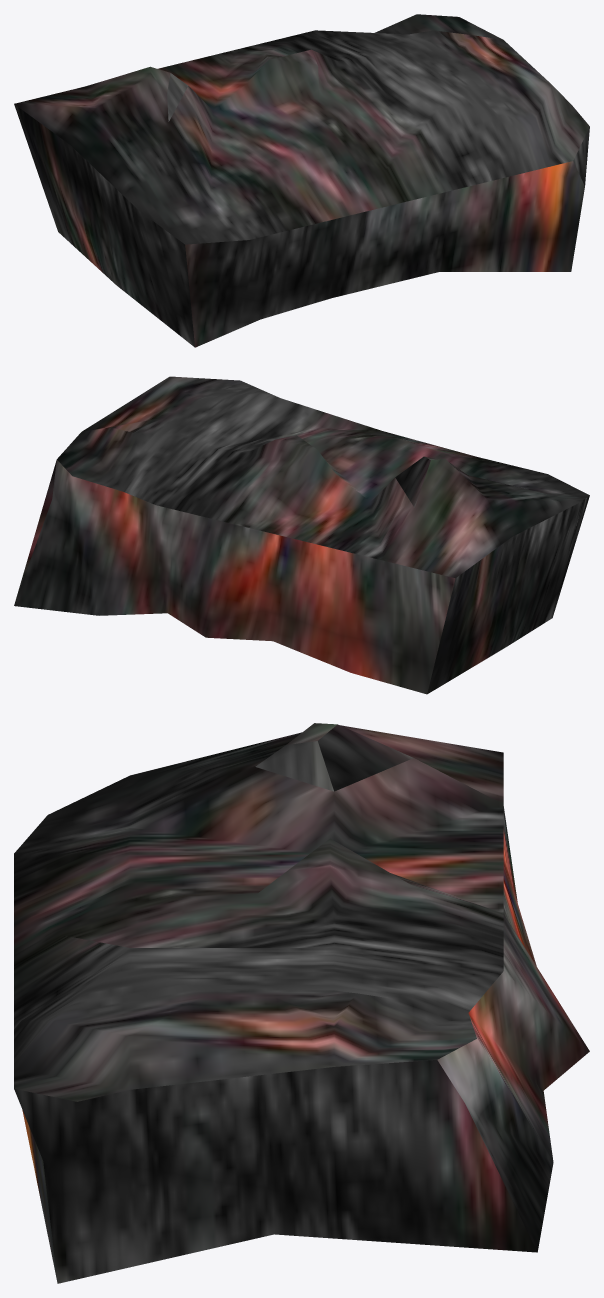
File: Roca03fbx.fbx
3 renders of one model, top to bottom at view 1: azimuth 30°, elevation 25°; view 2: azimuth 150°, elevation 25°; view 3: azimuth 270°, elevation 25°, orthographic. The views are drawn at different scales.
Visible parts, largest first — view 1: Cube; view 2: Cube; view 3: Cube.
Boxes of the visible parts, left/top/right/bottom form: Cube: left=14, top=14, right=589, bottom=347; Cube: left=14, top=376, right=589, bottom=694; Cube: left=14, top=723, right=589, bottom=1283.
Size of the model in its own units: 801 by 383 by 620.
